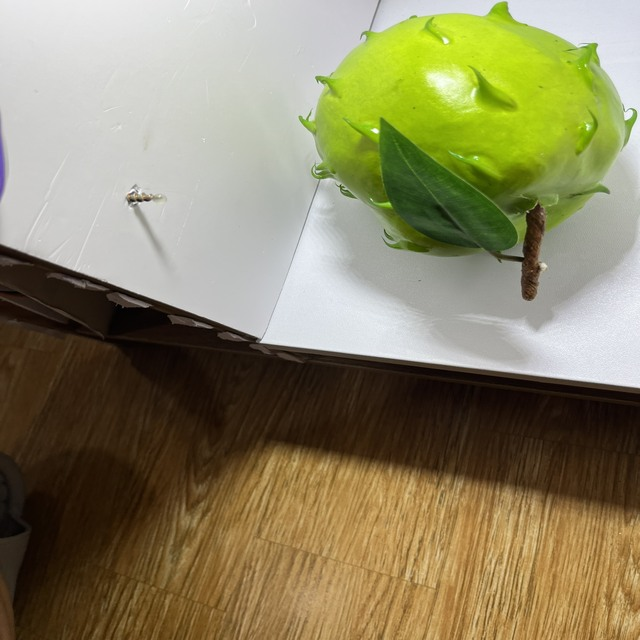Man cau: (289, 0, 640, 262)
